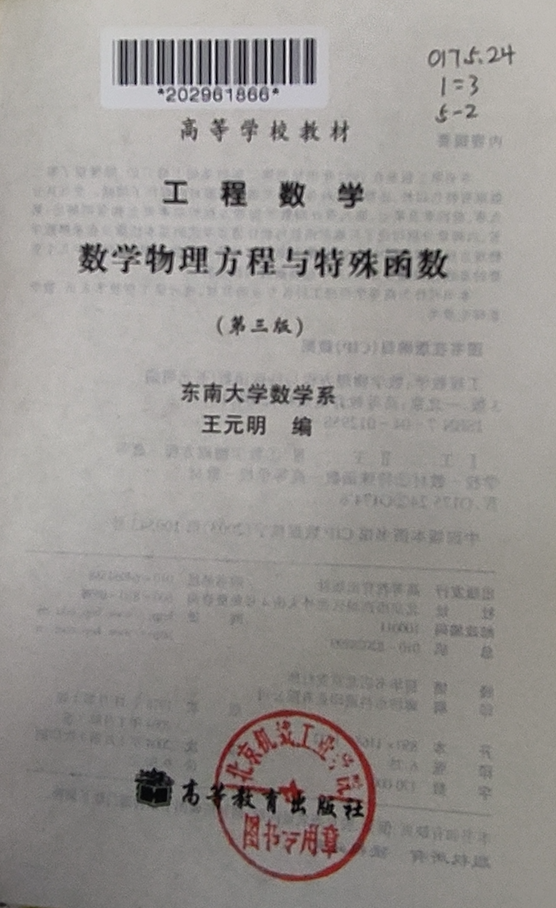Text_area: (72, 2, 524, 278), (137, 673, 391, 897), (189, 292, 360, 454)
